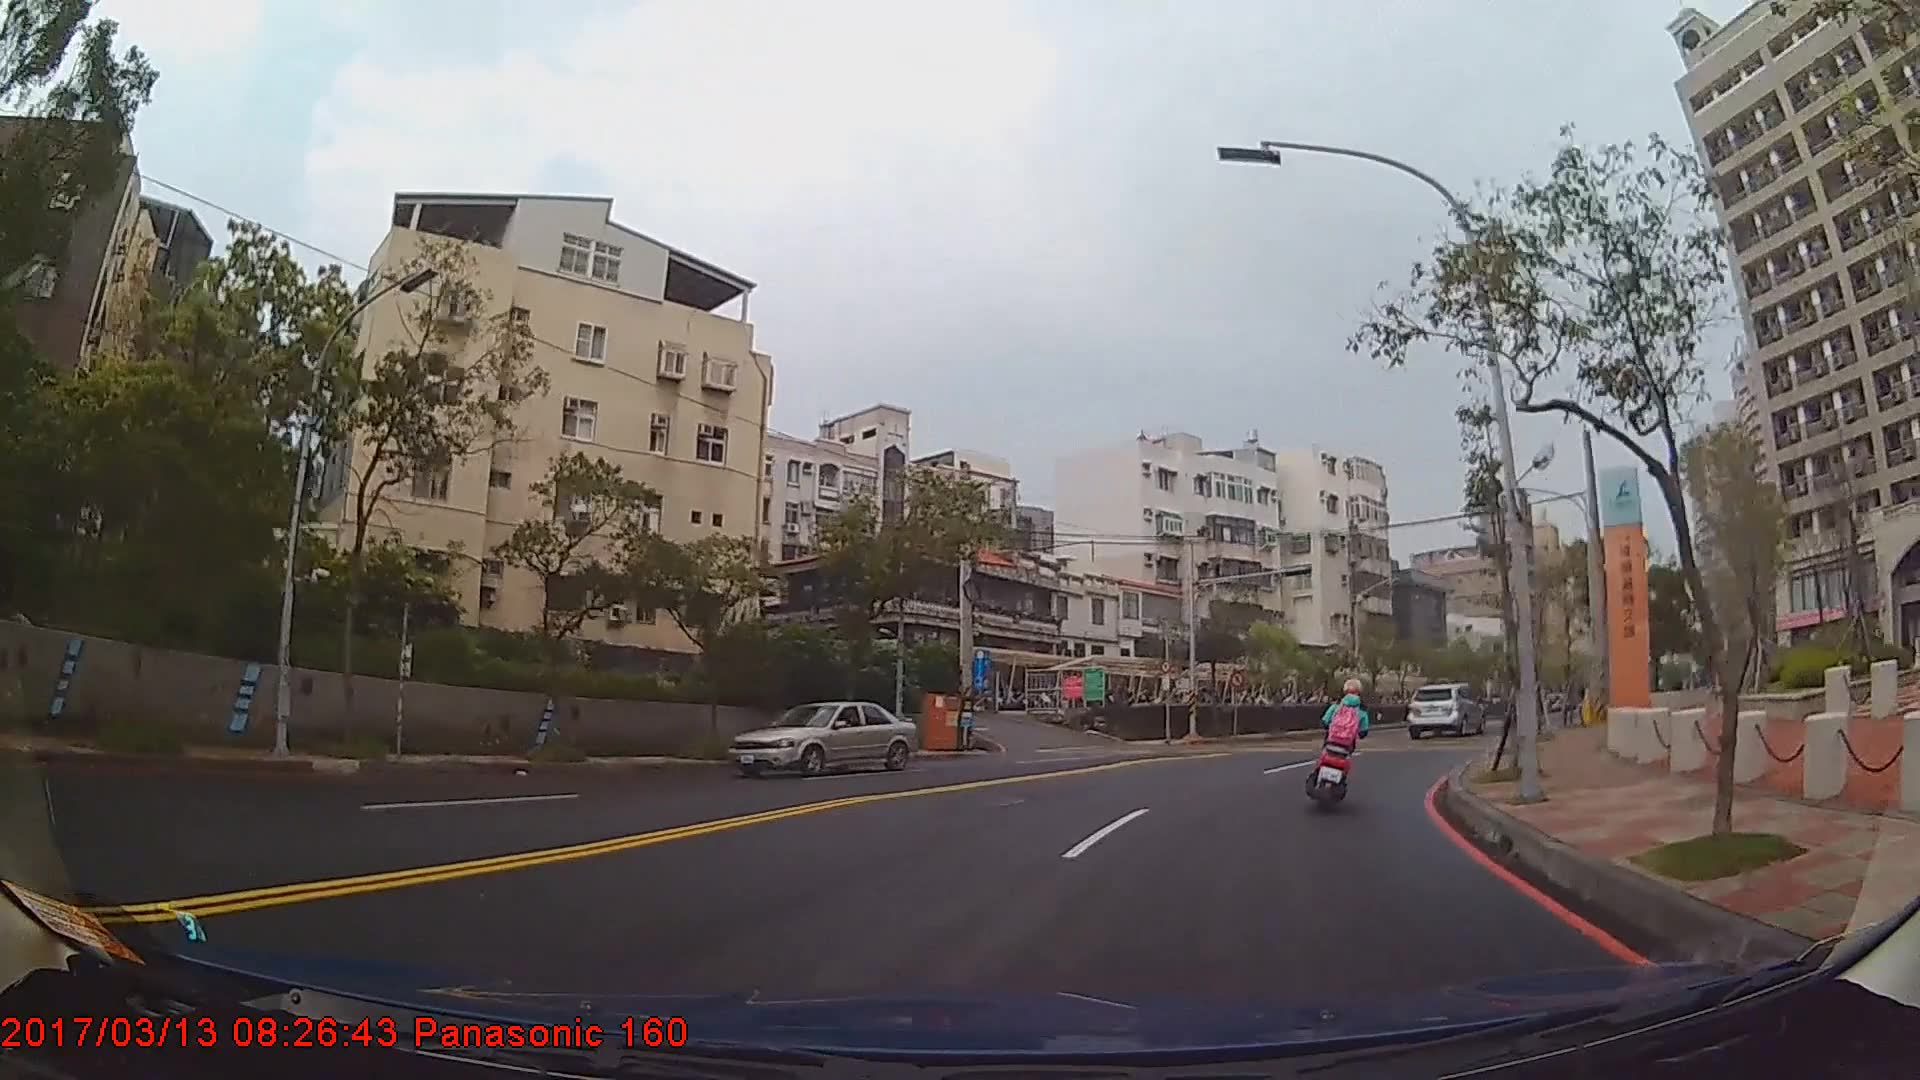rider: (1315, 677, 1375, 805)
vehicle: (724, 699, 917, 777), (1404, 682, 1484, 737)
